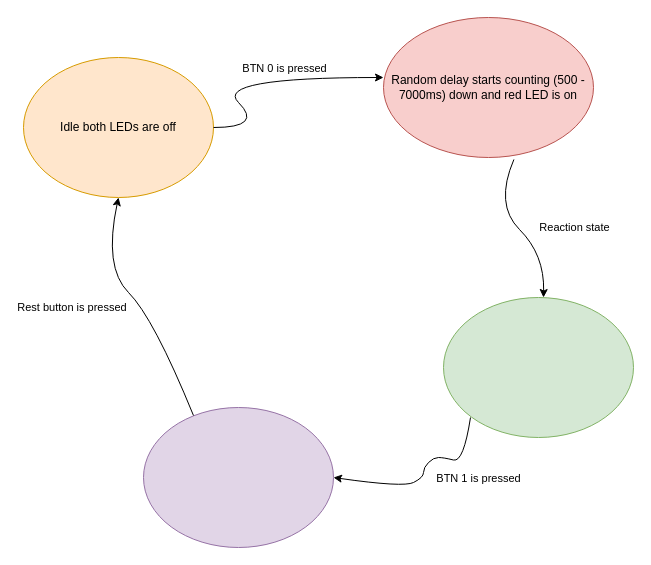
This 651x565 diagram has some shape labels left out. The shapes that lost their labels are listed below. From the top down, each one's centre as x and y in pixels, then its label:
At point 538,367: "Green LED is on and millisecond counter is running Display is being updated".
At point 238,477: "Result is capture and displayed".
